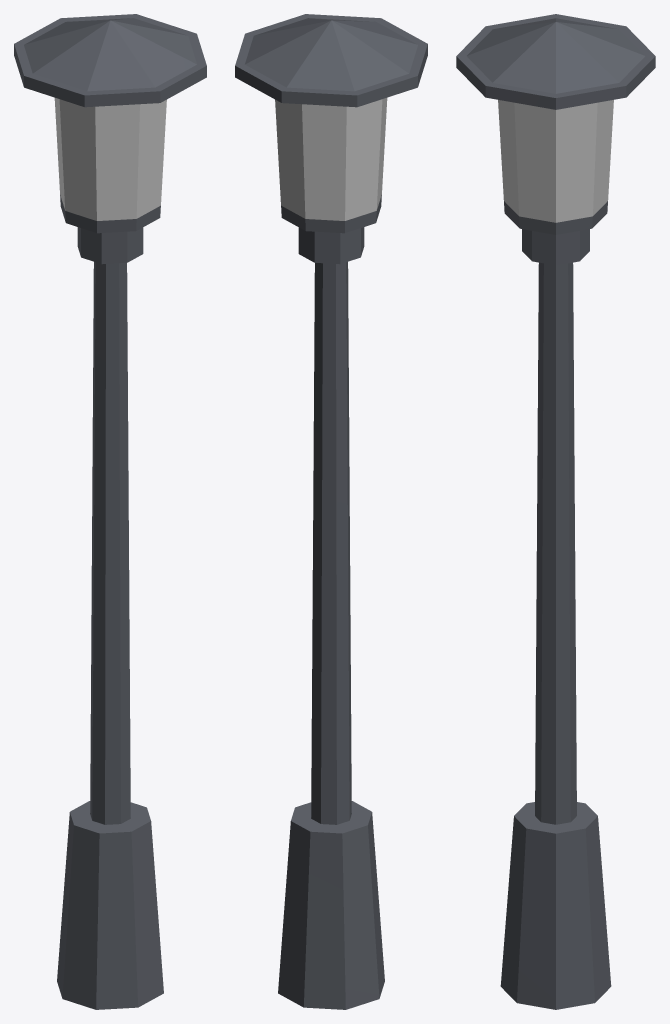
Rendered from g_o_city_lamp.fbx.
The picture shows the model from 3 angles, left to right: view 1: azimuth 30°, elevation 25°; view 2: azimuth 150°, elevation 25°; view 3: azimuth 270°, elevation 25°; orthographic projection.
Parts seen in each view (by area): view 1: pCylinder2; view 2: pCylinder2; view 3: pCylinder2.
Part boxes in pixels (box(x1,y1,x2,y2)): pCylinder2: box(14, 14, 206, 1009); pCylinder2: box(235, 14, 427, 1009); pCylinder2: box(456, 14, 655, 1009).
Bounding box in the file's own units: 0.5368 × 2.87 × 0.5368.
